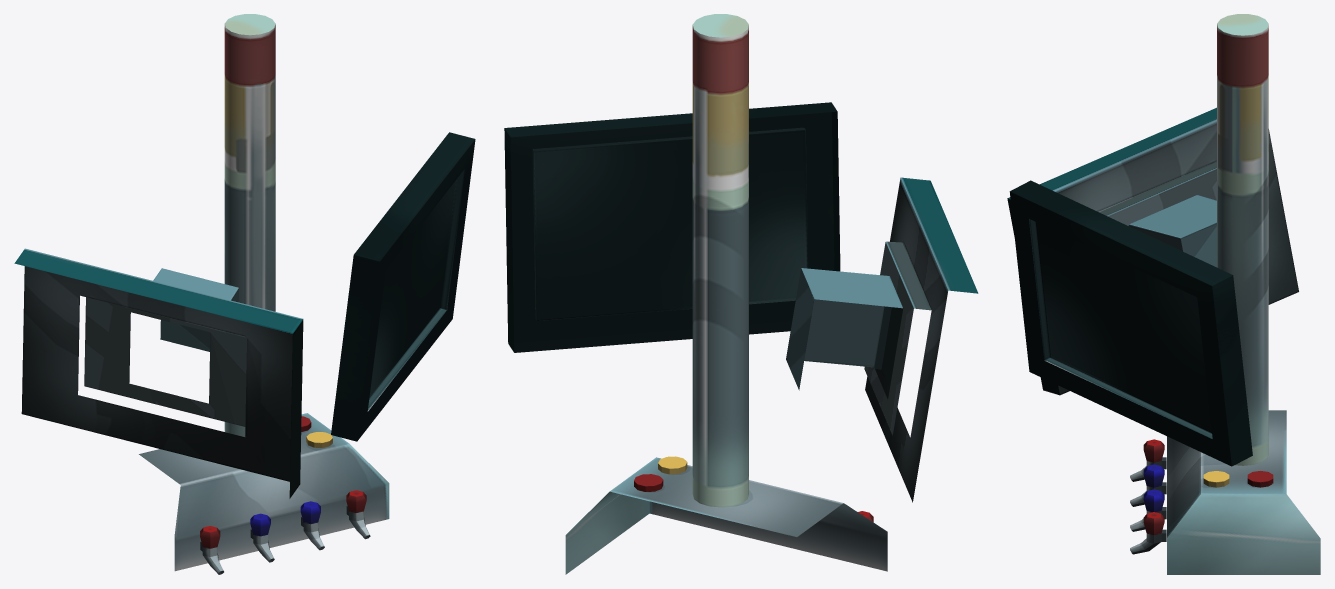
Rendered from Tx_props_computer_13.fbx.
3 views of the same model, side by side, from view 1: azimuth 30°, elevation 25°; view 2: azimuth 150°, elevation 25°; view 3: azimuth 270°, elevation 25° (orthographic). The views are drawn at different scales.
Visible parts, largest first — view 1: Tx_computer_7; view 2: Tx_computer_7; view 3: Tx_computer_7.
Part boxes in pixels (x1,y1,x2,y2): Tx_computer_7: [14, 14, 475, 574]; Tx_computer_7: [504, 14, 978, 574]; Tx_computer_7: [1007, 14, 1320, 574].
Size of the model in its own units: 5.7 by 6.03 by 3.43.
